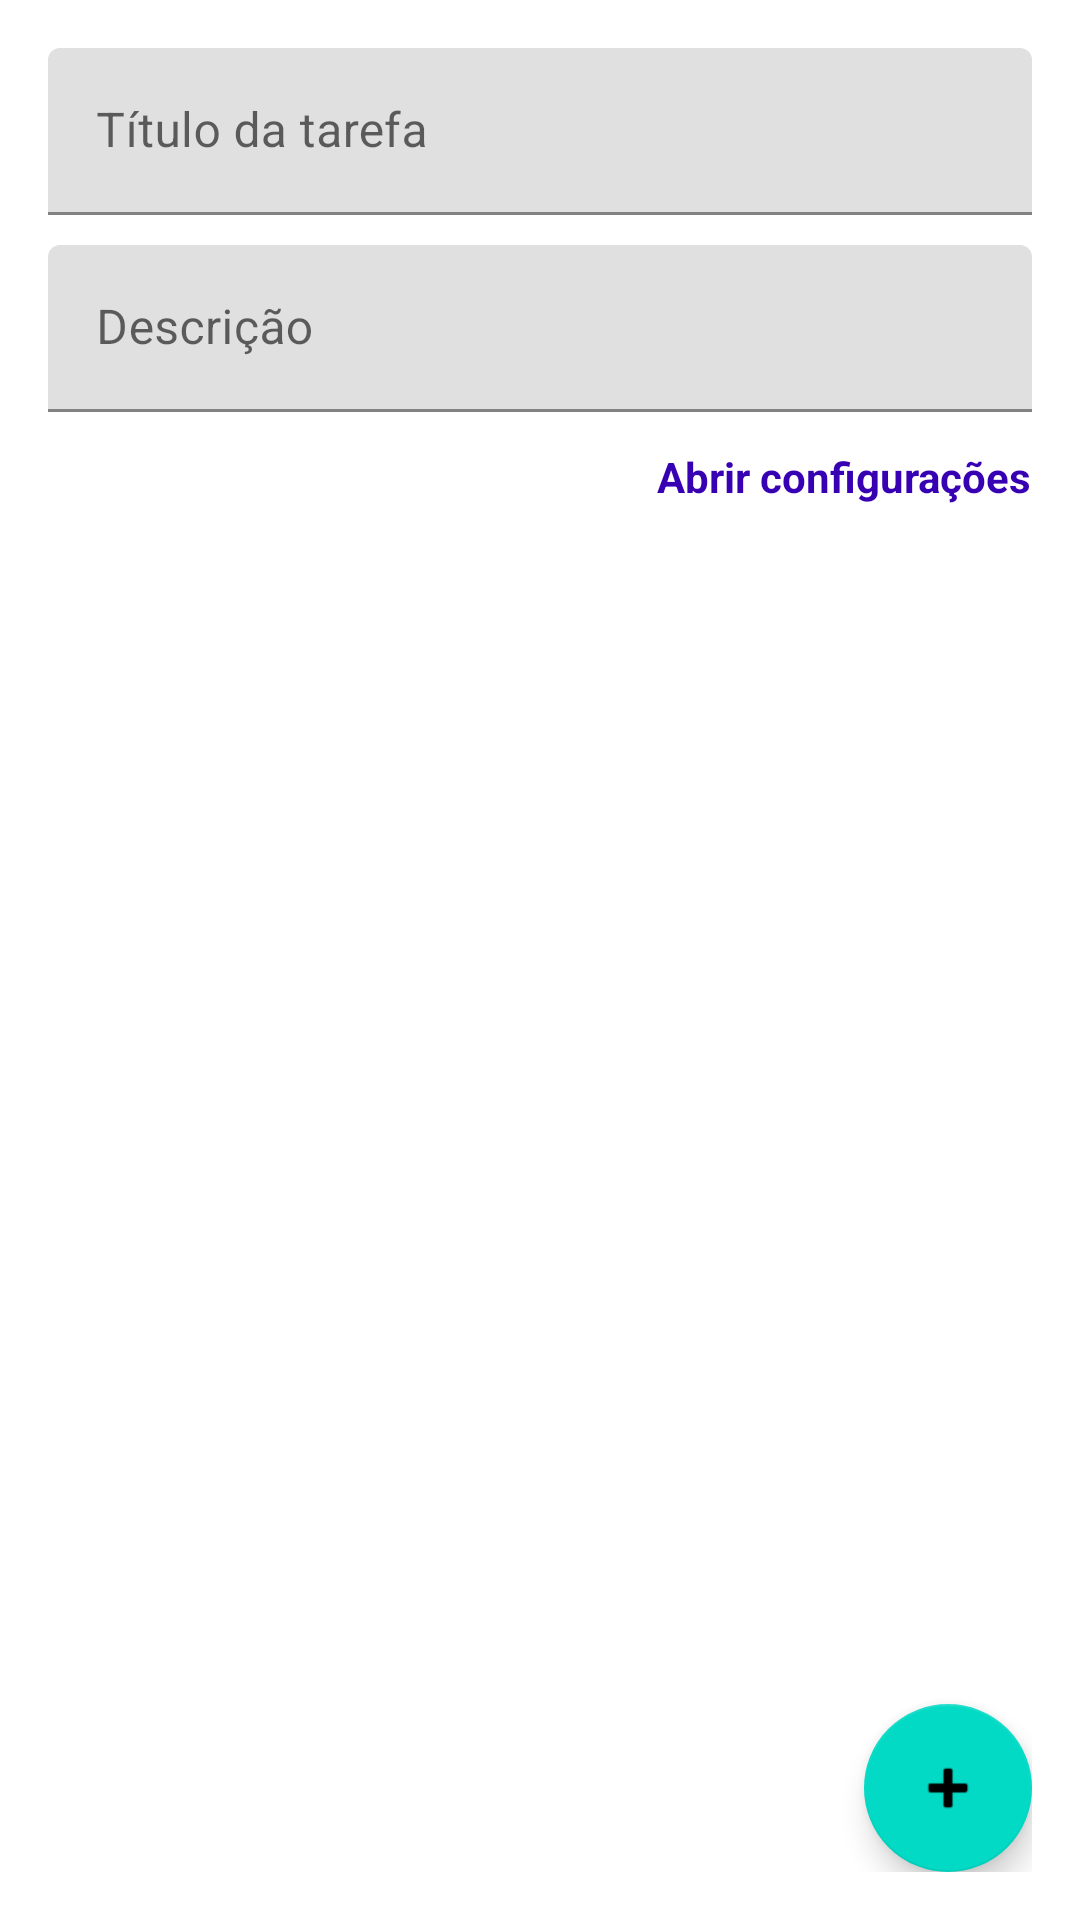

Named icons in this screenshot (1080*1920) and their centers, (x,y):
Adicionar tarefa: (948,1788)
